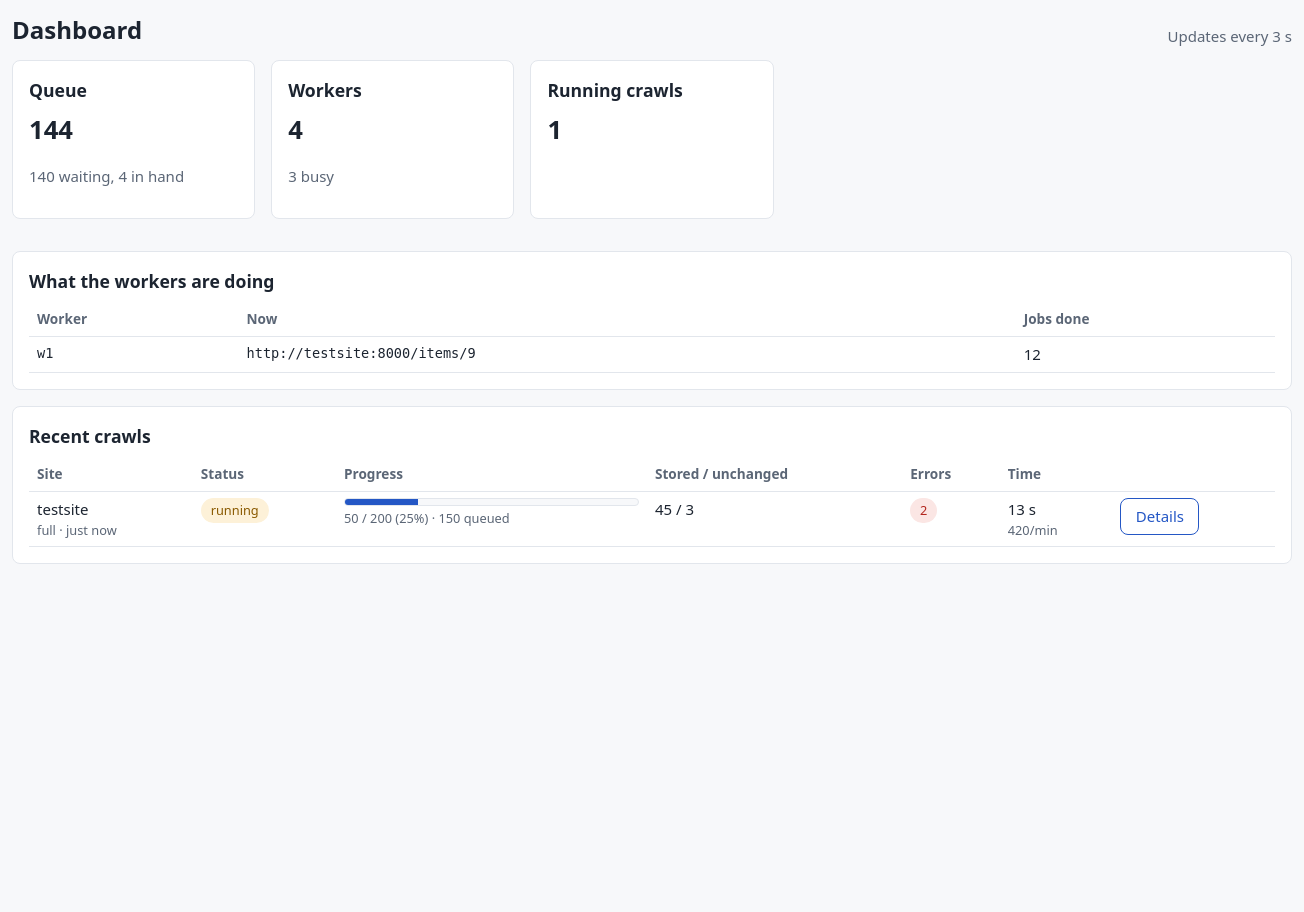
Test: Dashboard › shows a crawl's errors on demand
This screenshot has width=1304, height=912.
Click the button "Details".
click(1160, 517)  # box [1120,498,1200,535]
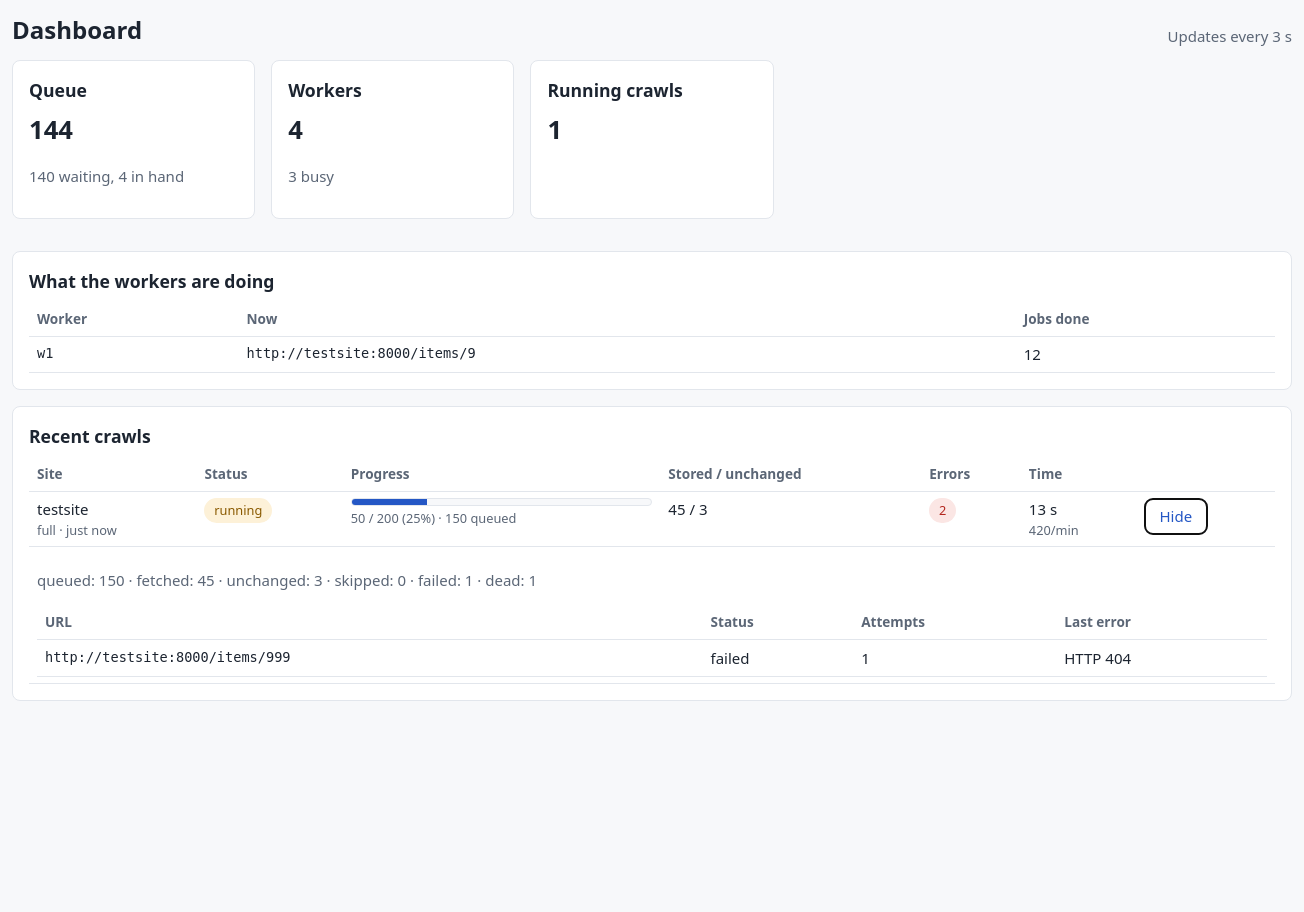
Result: the text "HTTP 404" is shown at [1056,640,1267,676]
